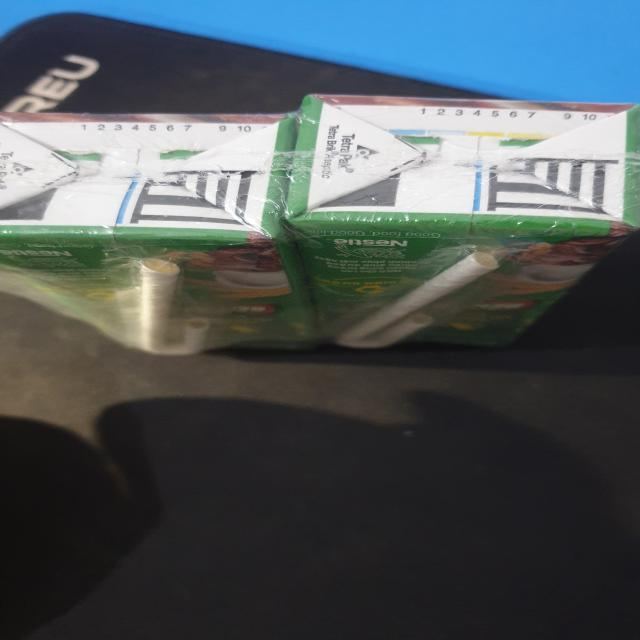Milo: (286, 91, 640, 360), (1, 112, 328, 361)
